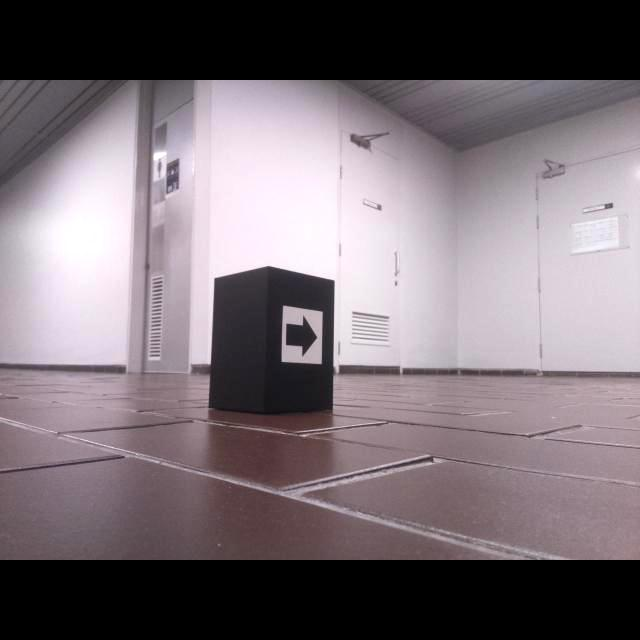RIGHT: (287, 316, 318, 356)
